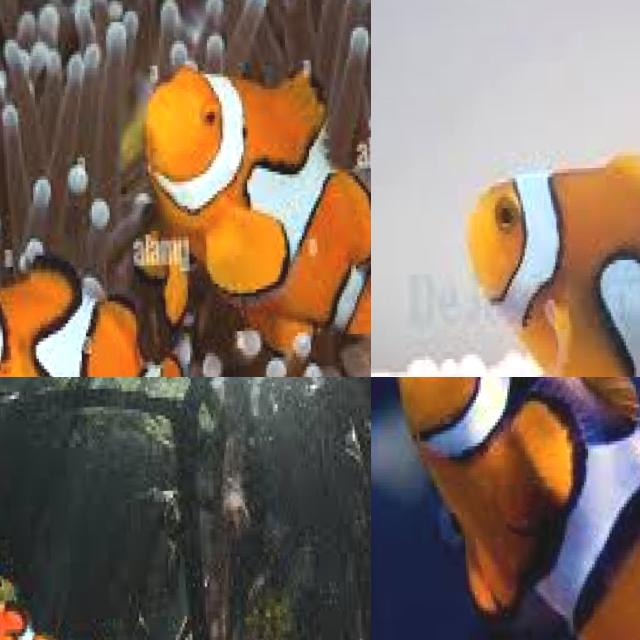Amphiprion-percula: (96, 40, 371, 359), (371, 377, 640, 640), (422, 117, 640, 377), (0, 195, 255, 377), (0, 578, 62, 640)
